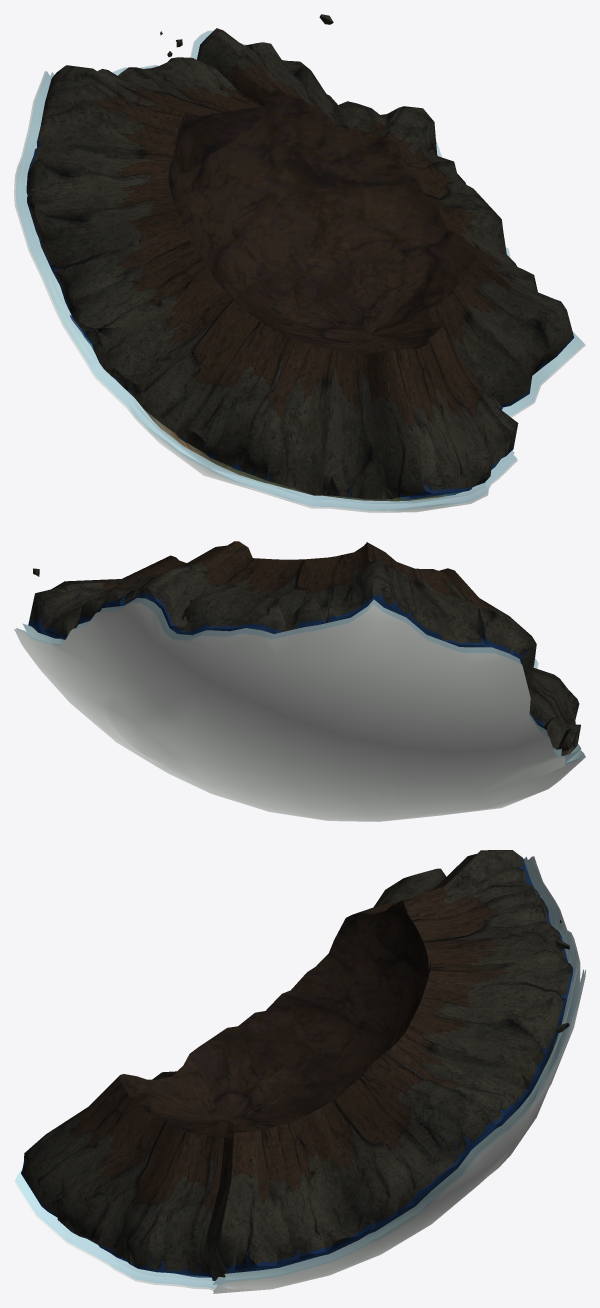
Rendered from Piece 6.fbx.
3 views of the same model, one above another, from view 1: azimuth 30°, elevation 25°; view 2: azimuth 150°, elevation 25°; view 3: azimuth 270°, elevation 25° (orthographic). The views are drawn at different scales.
Parts seen in each view (by area): view 1: Piece_6; view 2: Piece_6; view 3: Piece_6.
Boxes of the visible parts, x1,y1,x2,y2 form: Piece_6: (14,14,585,512); Piece_6: (14,541,585,821); Piece_6: (14,850,585,1293).
Bounding box in the file's own units: 7191 × 5062 × 7825.
